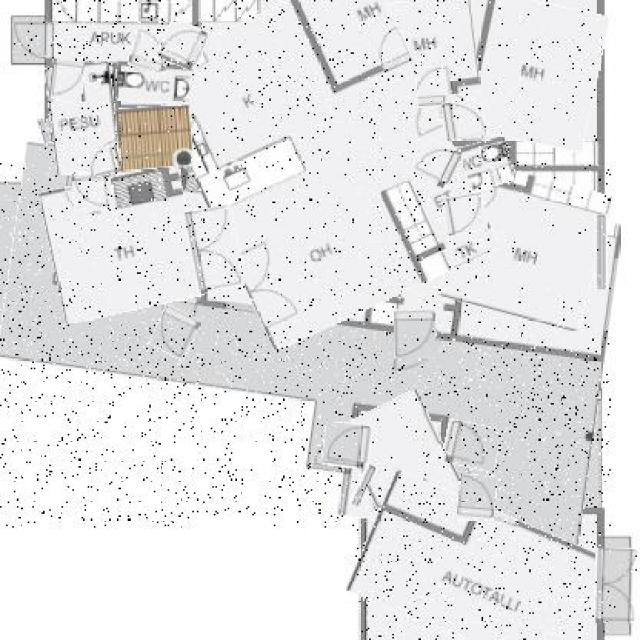door: (188, 206, 242, 292), (595, 548, 637, 623), (443, 422, 500, 471), (159, 20, 206, 68), (323, 423, 372, 468), (152, 308, 197, 357), (394, 310, 435, 358), (416, 142, 458, 188), (457, 475, 497, 520), (443, 100, 485, 140), (445, 194, 486, 234), (131, 32, 171, 72), (12, 22, 56, 58), (74, 174, 114, 212), (49, 60, 85, 102), (417, 66, 443, 108), (88, 147, 121, 176)
window: (272, 306, 325, 328), (40, 200, 55, 275), (84, 309, 150, 325), (594, 214, 608, 289), (218, 308, 268, 326), (354, 464, 371, 508), (40, 119, 54, 164)
zone: (0, 162, 611, 528), (169, 0, 471, 331), (353, 489, 604, 640), (446, 168, 605, 323), (440, 0, 602, 145), (44, 171, 198, 317), (351, 396, 463, 550), (363, 0, 477, 100), (54, 0, 192, 63), (48, 64, 119, 176), (117, 108, 192, 172), (452, 138, 514, 192), (117, 62, 191, 103)
